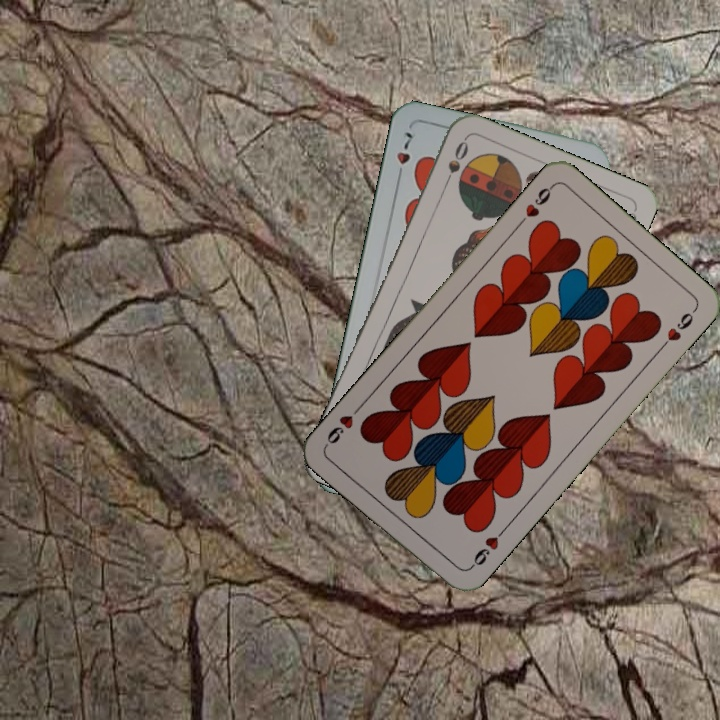H7: (392, 128, 415, 184)
H9: (465, 524, 509, 573), (513, 181, 556, 230)
SO: (439, 136, 471, 192)
